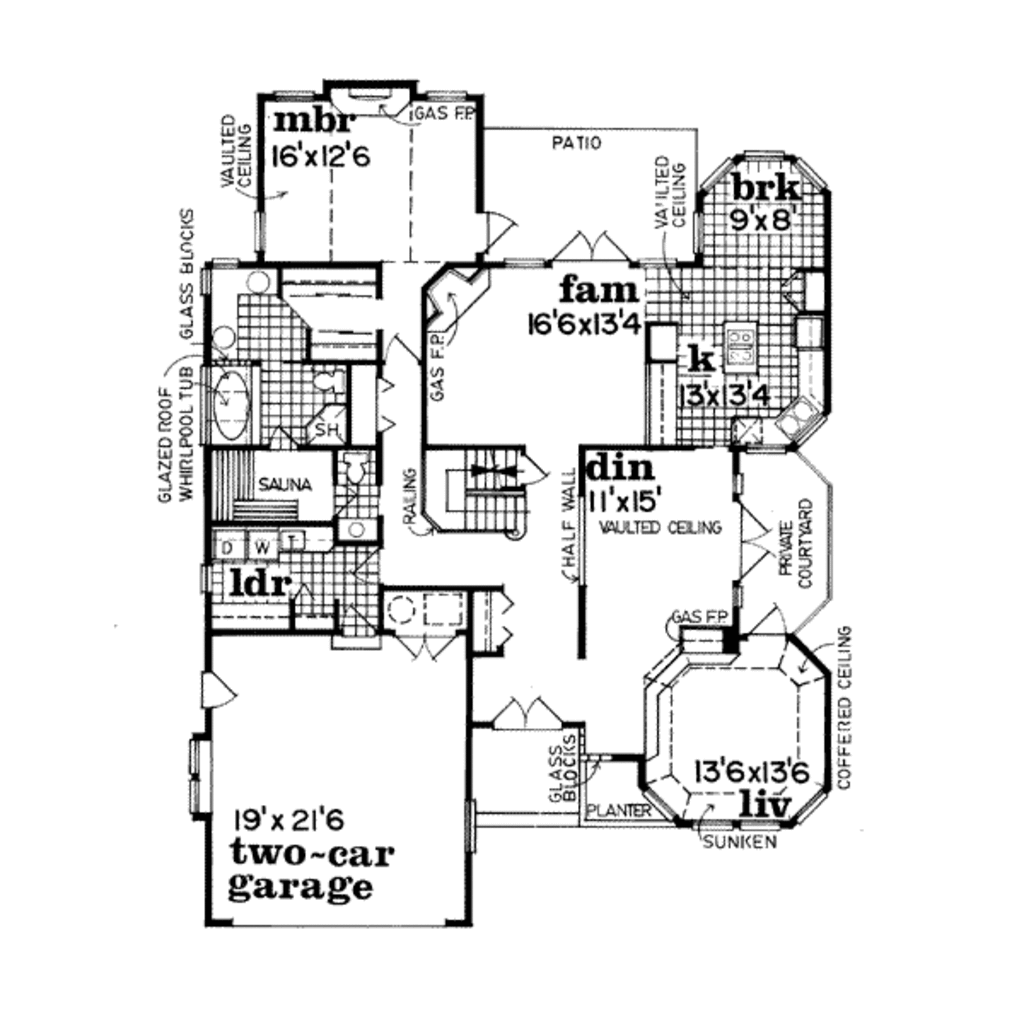door: (719, 495, 782, 584), (484, 689, 571, 735), (474, 208, 533, 262), (555, 228, 630, 266), (395, 625, 461, 662), (193, 662, 239, 708), (384, 328, 428, 368), (750, 601, 793, 641), (519, 457, 549, 489)
kitchen_bar: (725, 324, 769, 387)
large_sink: (326, 446, 385, 493), (290, 370, 353, 397)
small_sink: (203, 316, 241, 366), (233, 262, 273, 298), (346, 519, 393, 546)
stairs: (387, 439, 546, 551), (420, 441, 523, 532)
tub: (207, 370, 257, 444)
twin_sink: (757, 384, 825, 443)
window: (633, 789, 839, 830), (698, 146, 841, 193), (188, 738, 215, 814), (266, 82, 315, 116), (458, 803, 490, 852), (425, 87, 465, 105)
